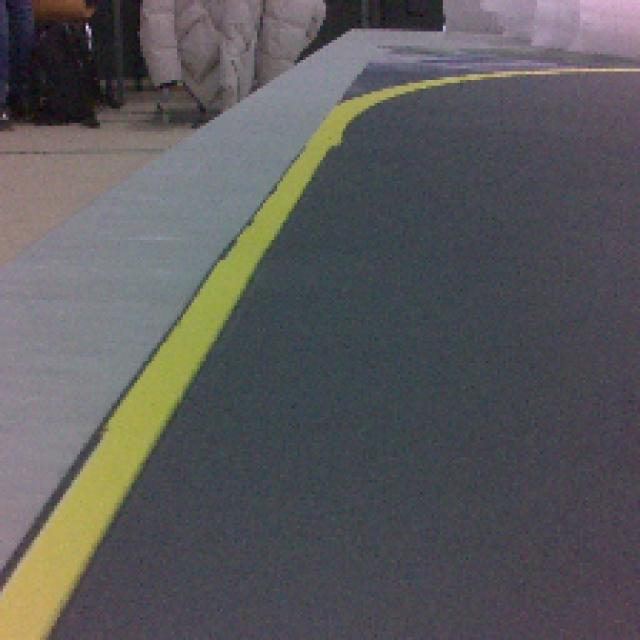Road: (45, 209, 640, 640)
